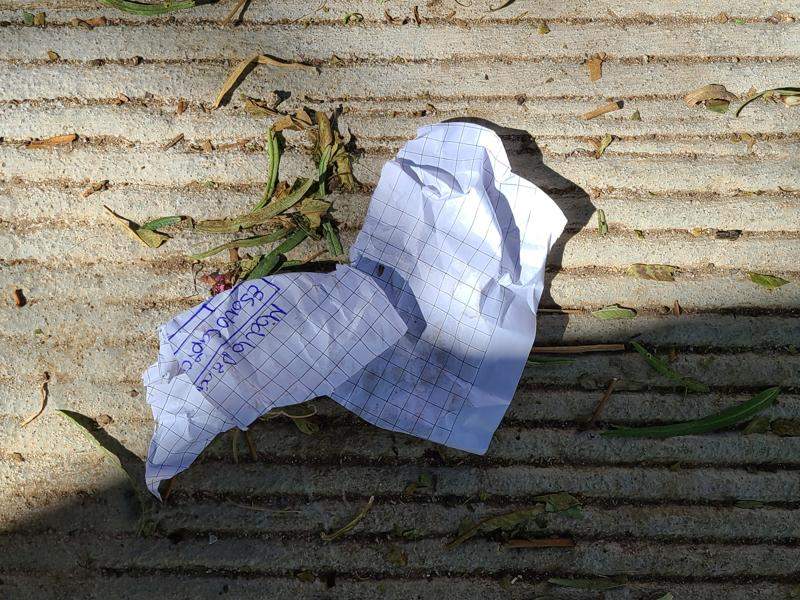papel: (137, 118, 599, 496)
